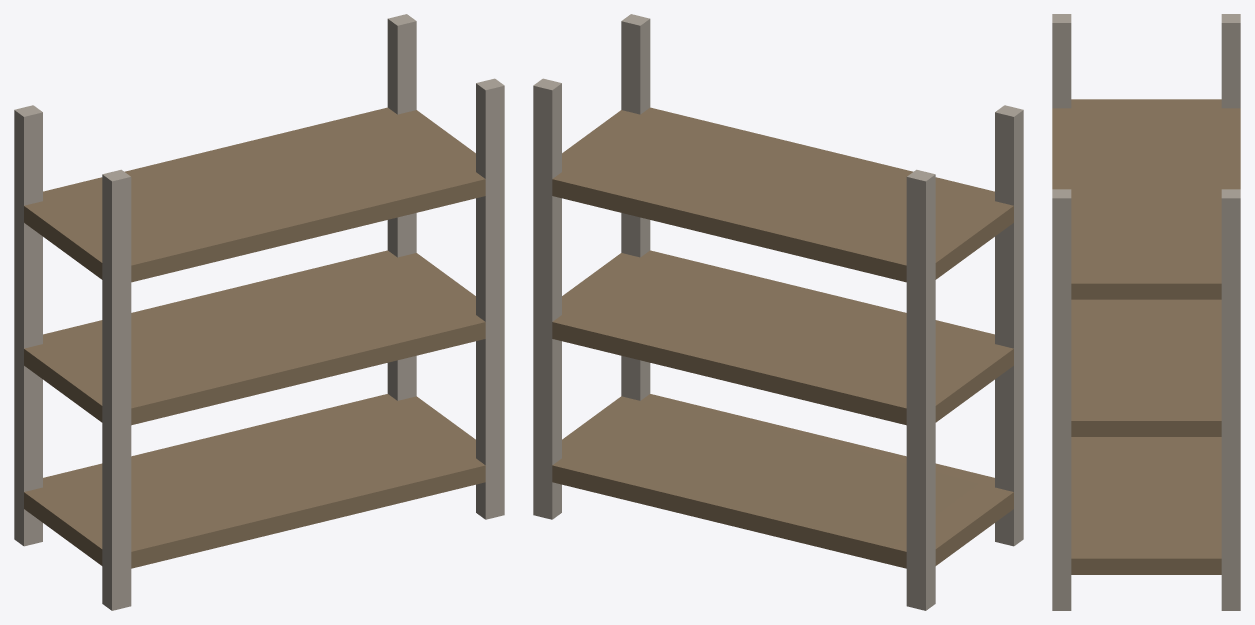
Rendered from Shelf.fbx.
3 renders of one model, left to right at view 1: azimuth 30°, elevation 25°; view 2: azimuth 150°, elevation 25°; view 3: azimuth 270°, elevation 25°, orthographic. The views are drawn at different scales.
Parts seen in each view (by area): view 1: Shelf; view 2: Shelf; view 3: Shelf.
Part boxes in pixels (bbox=[...]): Shelf: bbox=[14, 14, 504, 610]; Shelf: bbox=[533, 14, 1023, 610]; Shelf: bbox=[1052, 14, 1240, 610].
Size of the model in its own units: 4.57 by 4.77 by 1.97.
